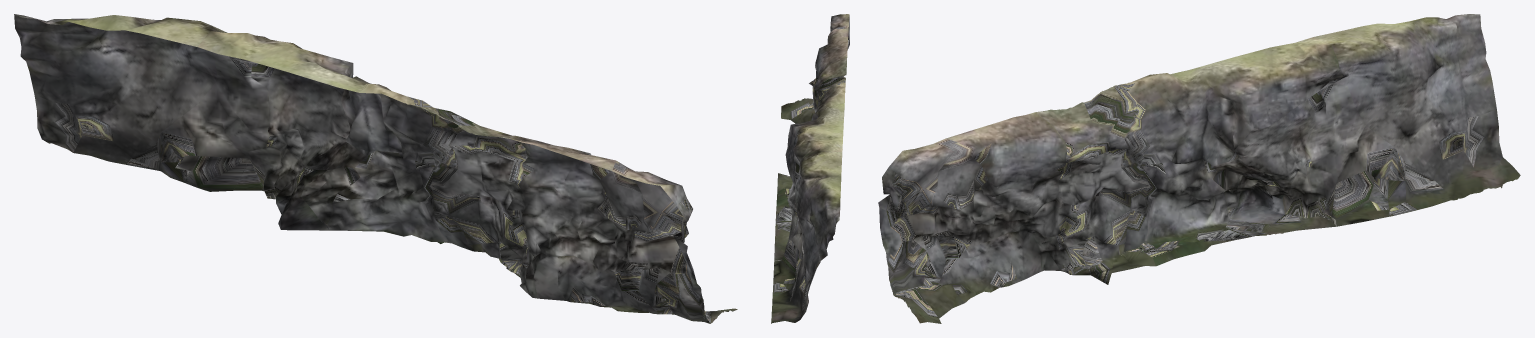
File: crag.lod1.glb
3 renders of one model, left to right at view 1: azimuth 30°, elevation 25°; view 2: azimuth 150°, elevation 25°; view 3: azimuth 270°, elevation 25°, orthographic. The views are drawn at different scales.
Parts seen in each view (by area): view 1: stranska_skala_1_stranska_skala_1_0; view 2: stranska_skala_1_stranska_skala_1_0; view 3: stranska_skala_1_stranska_skala_1_0.
Boxes of the visible parts, x1,y1,x2,y2 form: stranska_skala_1_stranska_skala_1_0: (14,14,737,323); stranska_skala_1_stranska_skala_1_0: (771,14,849,323); stranska_skala_1_stranska_skala_1_0: (878,14,1520,323).
Size of the model in its own units: 42.83 by 18.87 by 67.78.
1 material, 1 textured.
